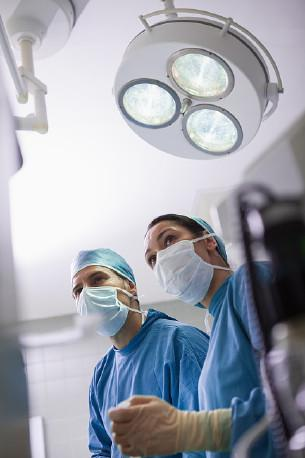OK: (143, 228, 209, 303), (69, 272, 132, 335)
